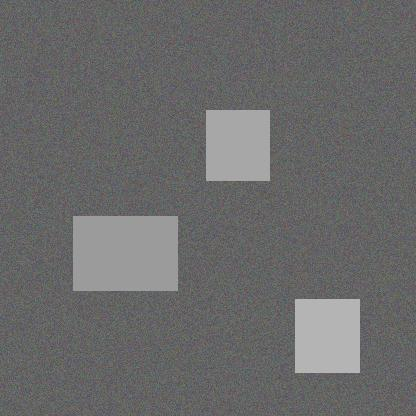occupied: (222, 225, 302, 303)
